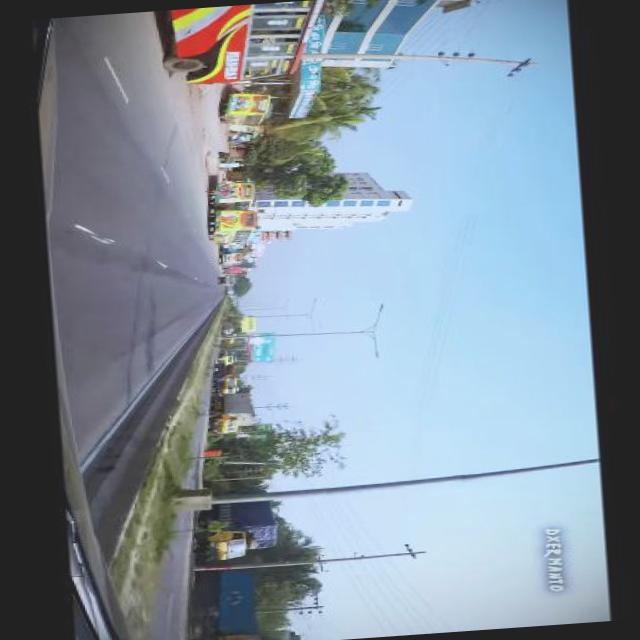bus: (166, 0, 331, 87), (220, 90, 274, 128), (207, 206, 259, 243), (212, 180, 256, 211), (221, 250, 245, 265)
truck: (194, 486, 280, 560), (210, 391, 254, 434)
